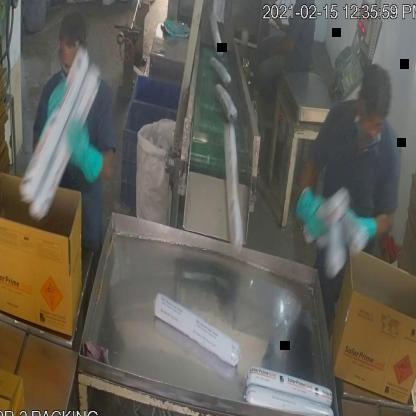glove: (65, 115, 103, 192)
no_glove: (263, 34, 301, 64)
